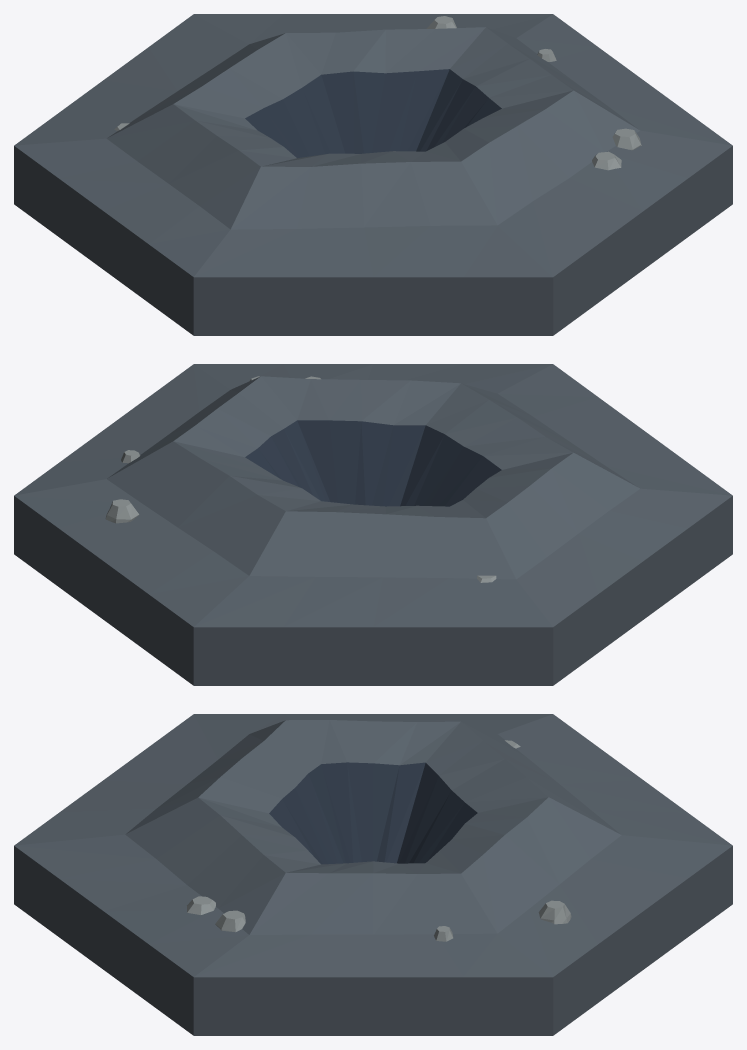
Rendered from LavaTubeEntrance.obj.
The picture shows the model from 3 angles, top to bottom: view 1: azimuth 30°, elevation 25°; view 2: azimuth 150°, elevation 25°; view 3: azimuth 270°, elevation 25°; orthographic projection.
Parts seen in each view (by area): view 1: LavaTubeEntrance; view 2: LavaTubeEntrance; view 3: LavaTubeEntrance.
Boxes of the visible parts, bbox=[...] form: LavaTubeEntrance: bbox=[14, 14, 732, 335]; LavaTubeEntrance: bbox=[14, 364, 732, 685]; LavaTubeEntrance: bbox=[14, 714, 732, 1035].
Bounding box in the file's own units: 1.73 × 0.3321 × 2.
